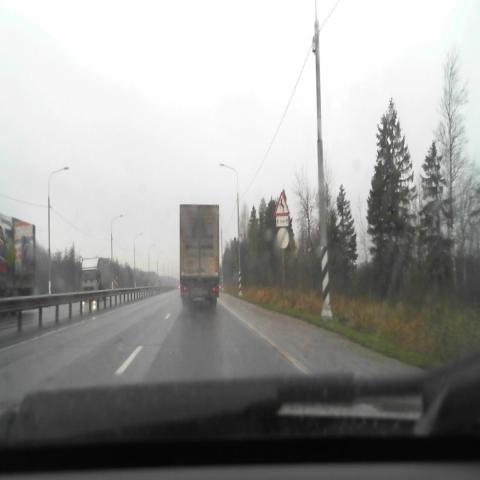1_27: (274, 192, 290, 215)
3_31: (277, 227, 289, 249)
